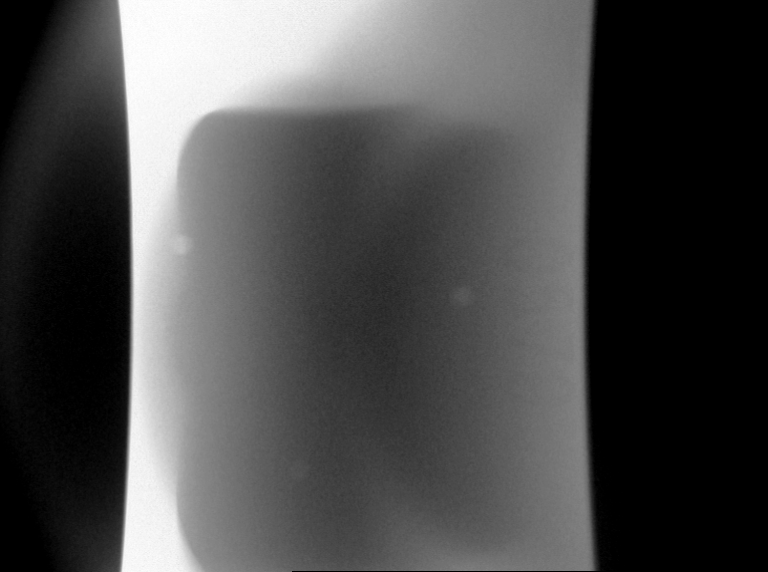defect: (172, 233, 194, 255)
